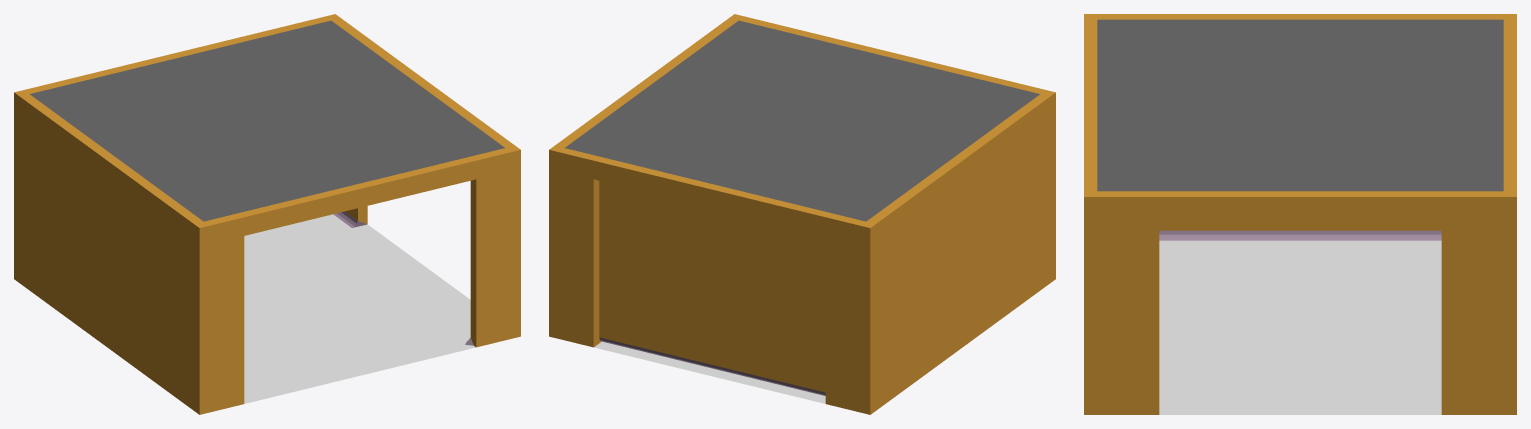
Rendered from simpleTurn.fbx.
3 renders of one model, left to right at view 1: azimuth 30°, elevation 25°; view 2: azimuth 150°, elevation 25°; view 3: azimuth 270°, elevation 25°, orthographic. The views are drawn at different scales.
Parts seen in each view (by area): view 1: Plane; view 2: Plane; view 3: Plane.
Part boxes in pixels (x1=…): Plane: x1=14, y1=14, x2=520, y2=414; Plane: x1=549, y1=14, x2=1055, y2=414; Plane: x1=1084, y1=14, x2=1516, y2=414.
Size of the model in its own units: 9 by 5 by 9.
